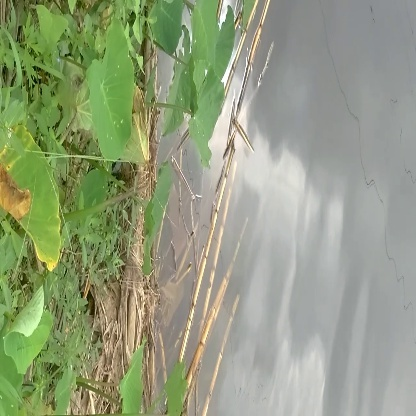branch: (189, 157, 242, 374)
